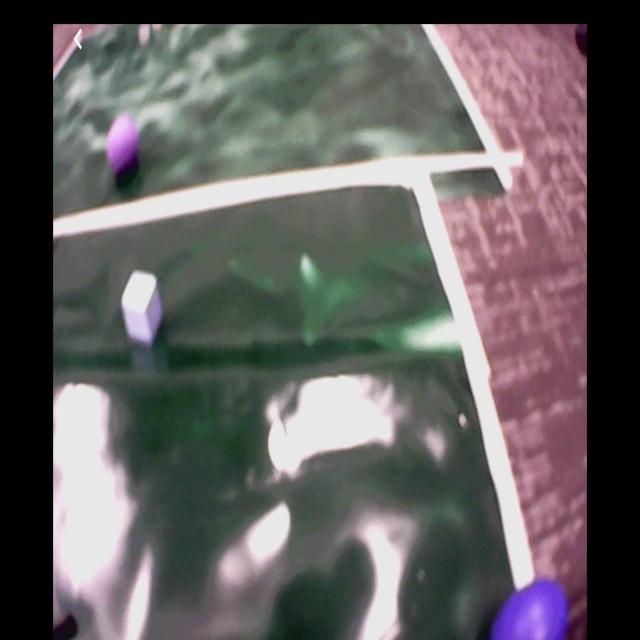ball: (493, 580, 571, 640), (107, 120, 143, 179)
